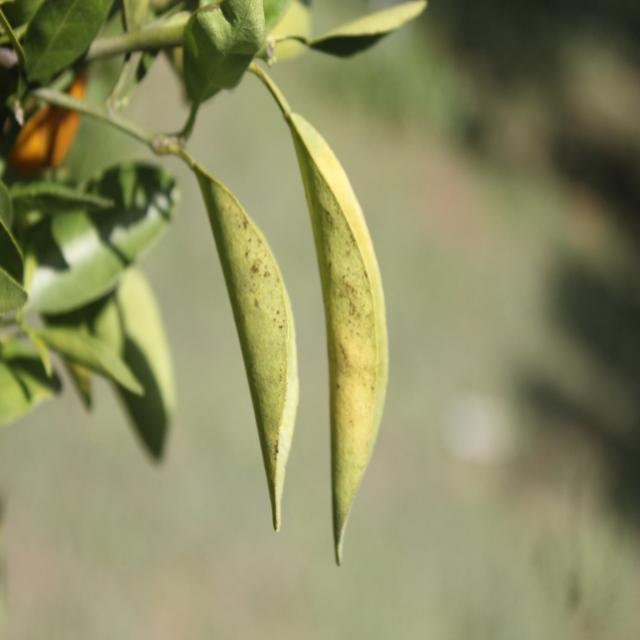melanose: (291, 115, 389, 532), (190, 155, 296, 533)
